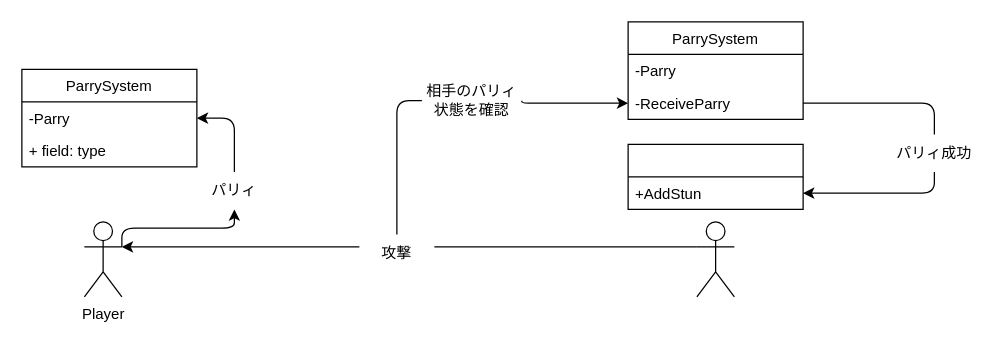
The diagram is 1006 pixels wide and 345 high, and some of its shapes have lost their labels. The box of each missing label's shape, as (x1, y1, x2, y2) in pixels:
Enemy: (696, 221, 734, 297)
StunWacher: (627, 143, 803, 209)
